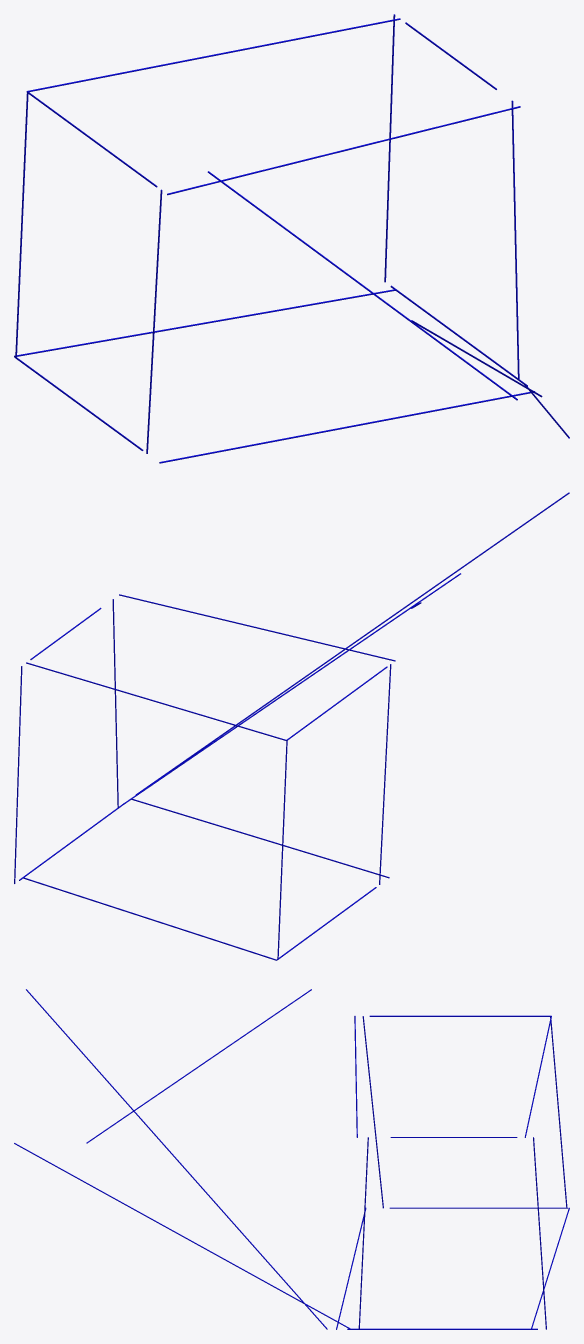
File: corrected_3d_strokes.glb
3 views of the same model, one above another, from view 1: azimuth 30°, elevation 25°; view 2: azimuth 150°, elevation 25°; view 3: azimuth 270°, elevation 25° (orthographic). The views are drawn at different scales.
Visible parts, largest first — view 1: world; view 2: world; view 3: world.
Boxes of the visible parts, x1,y1,x2,y2 form: world: (14, 14, 569, 463); world: (14, 492, 569, 960); world: (14, 989, 569, 1329).
Size of the model in its own units: 9.4 by 8.04 by 18.15.
